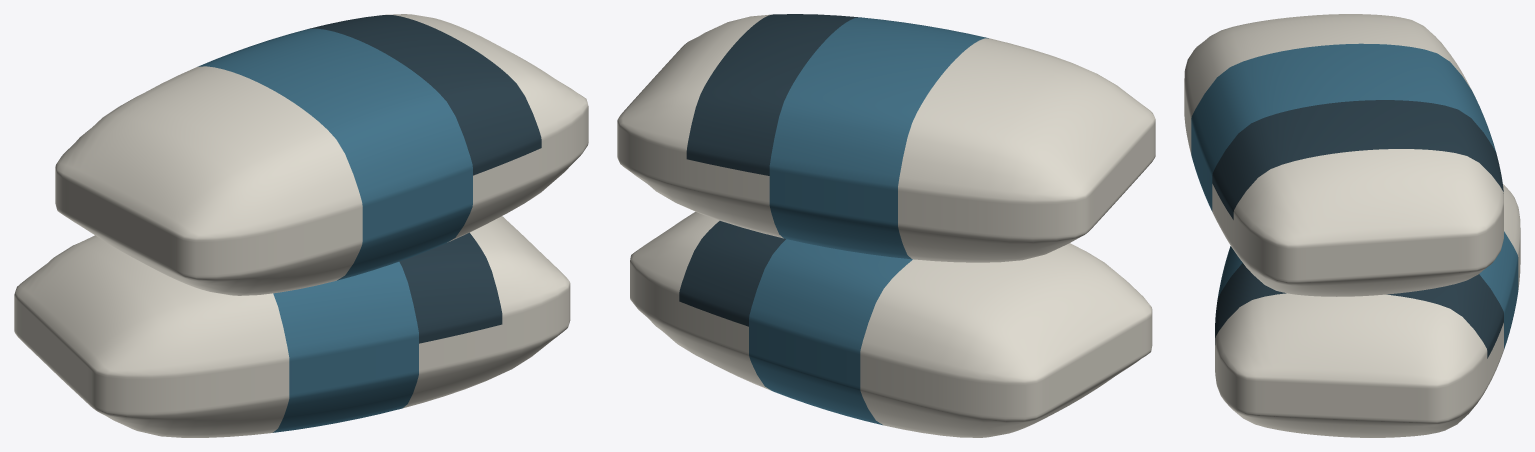
Rendered from material-cimento.glb.
3 renders of one model, left to right at view 1: azimuth 30°, elevation 25°; view 2: azimuth 150°, elevation 25°; view 3: azimuth 270°, elevation 25°, orthographic. The views are drawn at different scales.
Parts seen in each view (by area): view 1: saco-cima, saco-baixo; view 2: saco-cima, saco-baixo; view 3: saco-cima, saco-baixo.
Boxes of the visible parts, x1,y1,x2,y2 form: saco-cima: (55, 14, 588, 295); saco-baixo: (14, 216, 570, 437); saco-cima: (617, 14, 1155, 262); saco-baixo: (630, 211, 1152, 437); saco-cima: (1184, 14, 1503, 296); saco-baixo: (1215, 184, 1520, 437).
Size of the model in its own units: 1.13 by 0.7473 by 0.7143.
